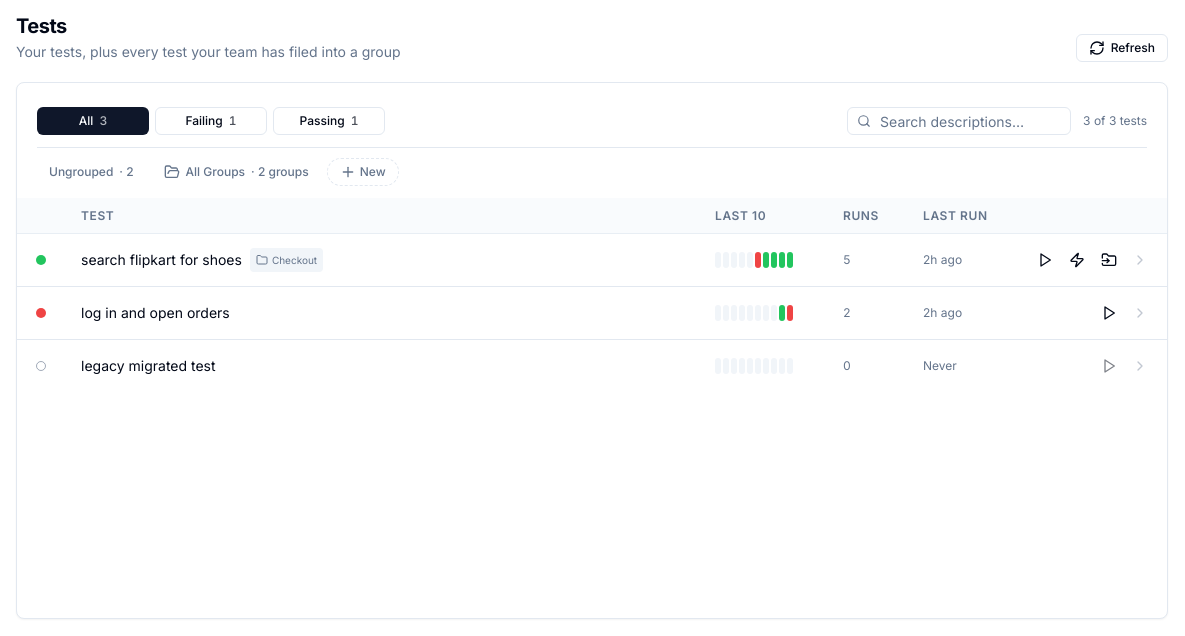
Test case: TestsPage — the health tabs › asks the server for the open tab’s rows
Expected: the button "search flipkart for shoes" is shown, [81,250,242,270]
Click the button "Failing 1" at (211, 121), box [155,107,267,135]
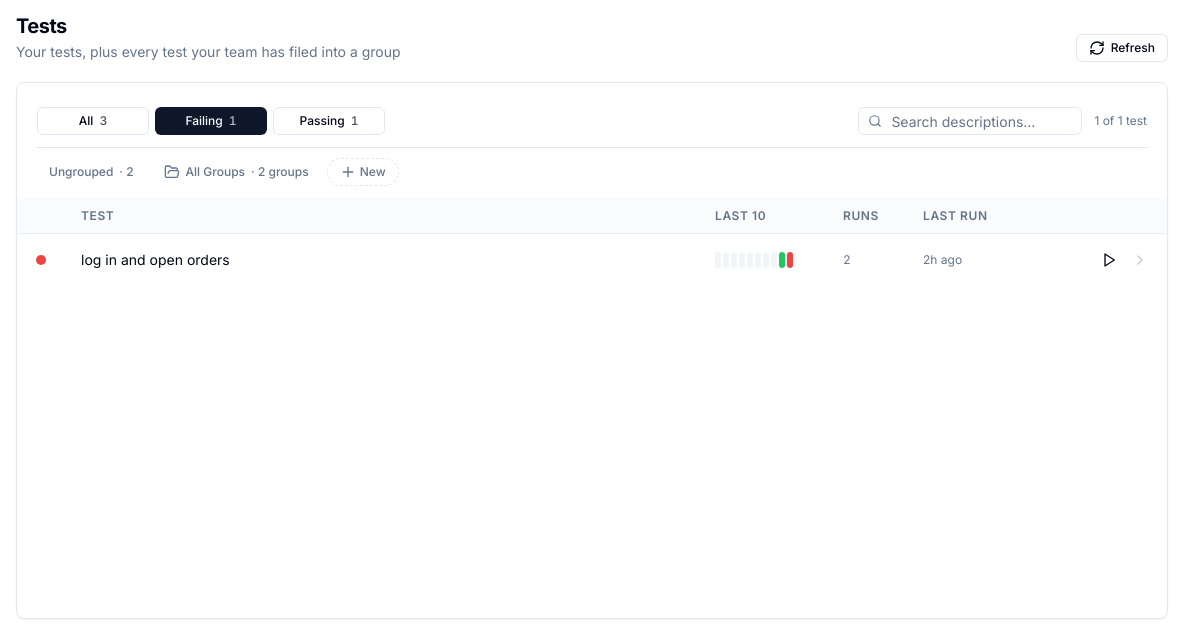
Expected: the button "log in and open orders" is shown, [81,250,230,270]
Now the button "search flipkart for shoes" is gone
